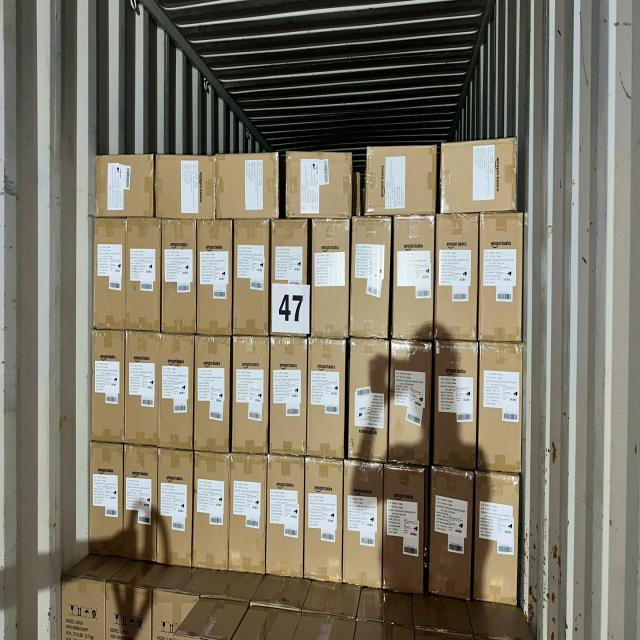Carton: (474, 472, 522, 608), (480, 341, 524, 470), (443, 139, 519, 213), (430, 469, 472, 602), (480, 217, 524, 343), (381, 465, 423, 595), (434, 342, 476, 469), (434, 213, 476, 339), (342, 458, 382, 588), (392, 341, 433, 465), (394, 217, 435, 340), (349, 339, 389, 462), (368, 146, 437, 217), (304, 458, 342, 582), (351, 218, 390, 338), (266, 459, 304, 582), (313, 220, 351, 340), (286, 154, 353, 221), (306, 338, 344, 456), (271, 220, 309, 338), (230, 337, 268, 452), (235, 221, 272, 339), (228, 456, 265, 574), (195, 335, 232, 452), (214, 153, 277, 220), (271, 338, 307, 454), (195, 454, 231, 570), (157, 450, 192, 568), (158, 153, 219, 220), (160, 221, 195, 336), (198, 218, 233, 333), (123, 447, 157, 565), (158, 333, 192, 449), (128, 220, 162, 334), (88, 445, 121, 561), (126, 331, 159, 446), (98, 154, 157, 218), (94, 328, 127, 442), (96, 215, 129, 328)
